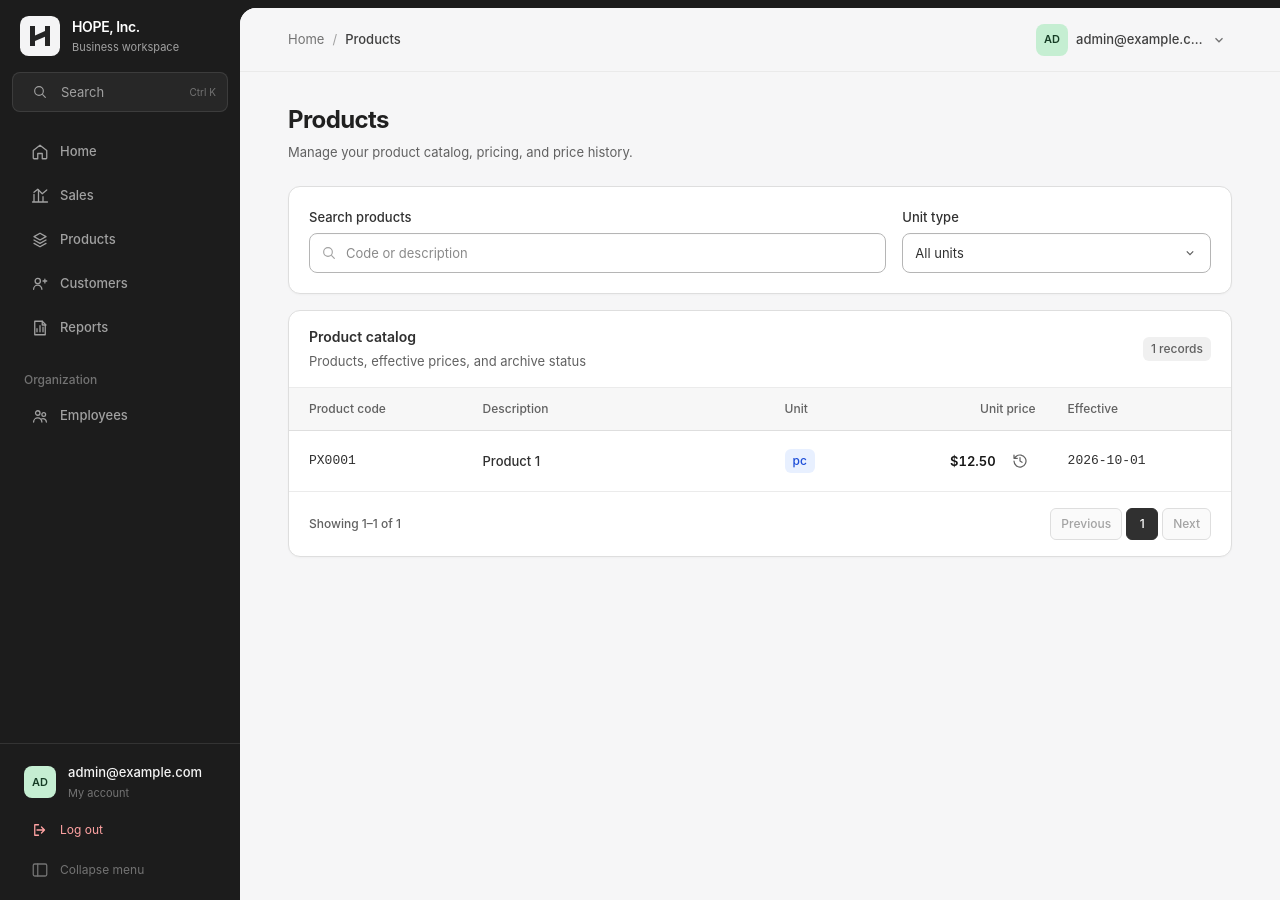
Test case: allows an employee to review products without edit or archive controls
Check: the text "Product 1" is shown, box x1=466 y1=431 x2=768 y2=491
Click the button named "Show price history for PX0001". click: (1020, 461)
box: x1=1004 y1=445 x2=1036 y2=477
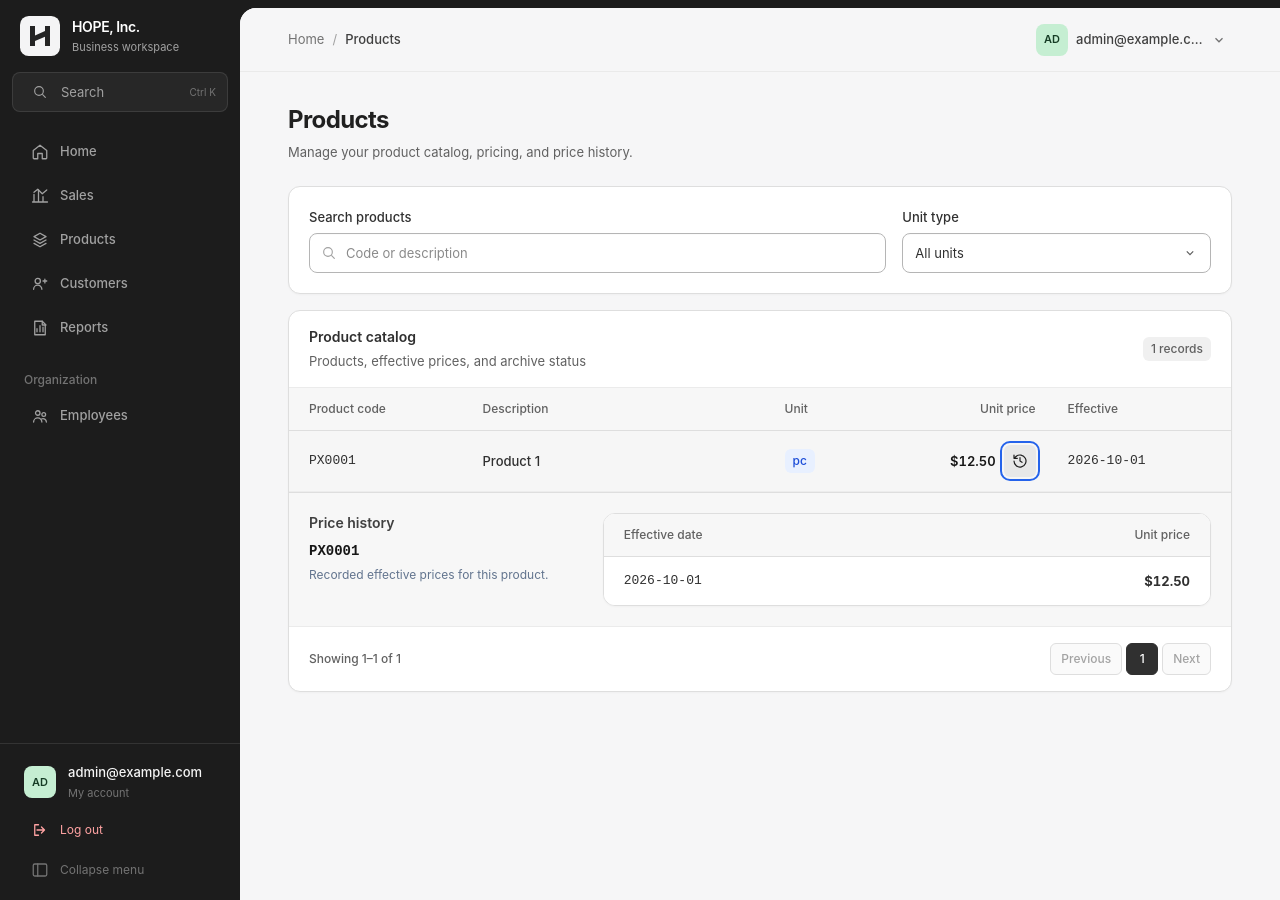
Check: the text "PX0001" is shown, box x1=309 y1=543 x2=359 y2=559
